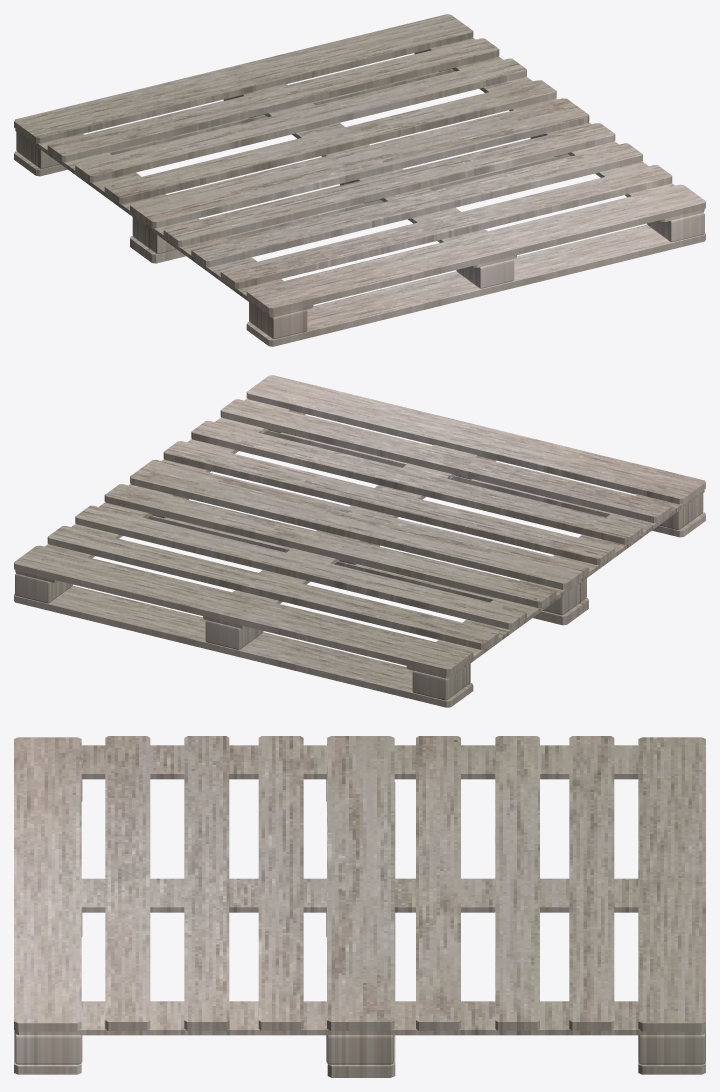
The model's file is PalettesFixed.fbx.
3 renders of one model, top to bottom at view 1: azimuth 30°, elevation 25°; view 2: azimuth 150°, elevation 25°; view 3: azimuth 270°, elevation 25°, orthographic. The views are drawn at different scales.
Visible parts, largest first — view 1: pasted__Palette1; view 2: pasted__Palette1; view 3: pasted__Palette1.
Part boxes in pixels (box(x1,y1,x2,y2)): pasted__Palette1: box(14, 14, 705, 346); pasted__Palette1: box(14, 375, 705, 707); pasted__Palette1: box(14, 736, 705, 1077).
Size of the model in its own units: 10 by 0.9102 by 10.23.
